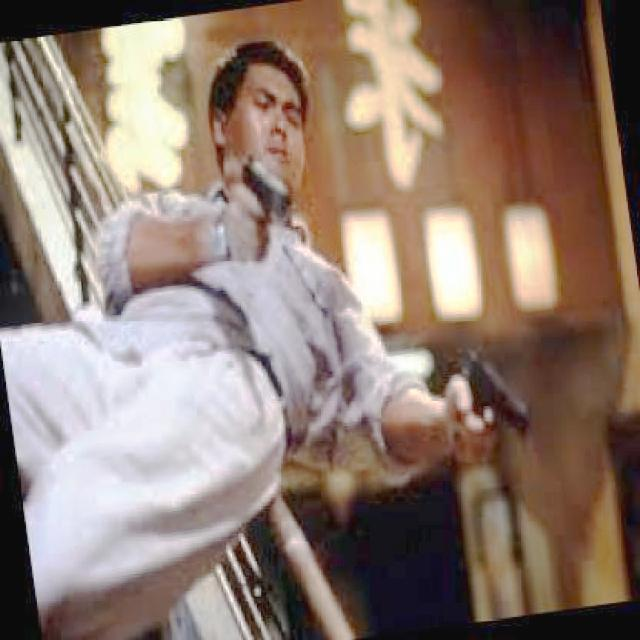Gun: (450, 340, 550, 444), (236, 150, 298, 222)
